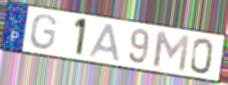0: (189, 37, 216, 76)
1: (72, 17, 90, 59)
9: (127, 28, 150, 65)
A: (87, 22, 123, 63)
G: (28, 13, 59, 51)
M: (151, 28, 191, 74)
